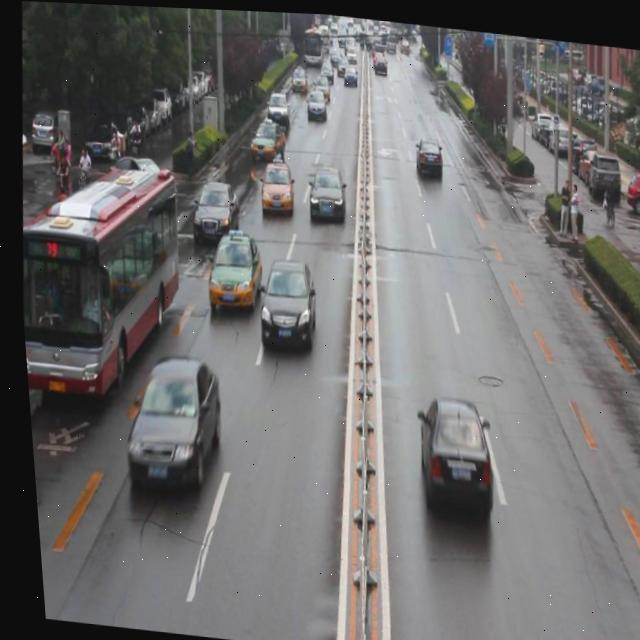car: (110, 344, 223, 508), (400, 388, 491, 531), (249, 255, 315, 348), (199, 222, 264, 316), (185, 174, 240, 248), (102, 149, 175, 202), (302, 162, 345, 217), (255, 156, 294, 211), (246, 113, 286, 160), (408, 131, 442, 179), (261, 86, 291, 126), (302, 85, 327, 119)
van: (8, 144, 189, 411)
